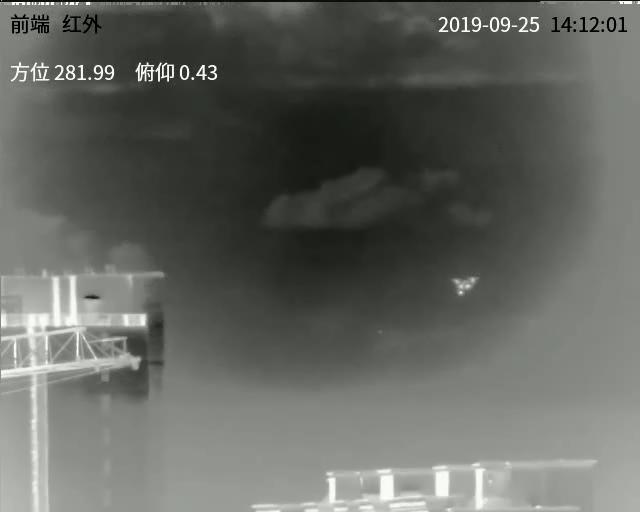uav: (449, 273, 478, 298)
